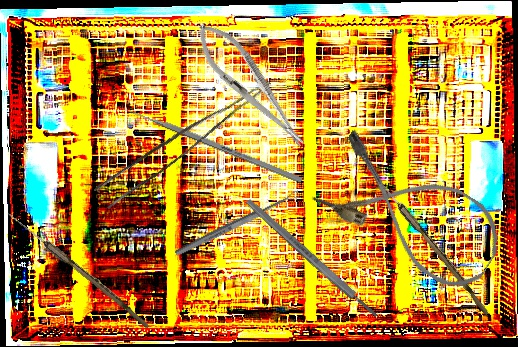Cannula: (308, 125, 515, 300)
Needle Holder: (185, 13, 317, 158)
Pusher: (114, 101, 303, 184)
Scalpel Handle: (244, 196, 380, 321)
Surgical Spoon: (364, 165, 493, 316), (4, 210, 153, 329), (173, 189, 302, 258)
Tissue Forceps: (93, 60, 272, 215)
